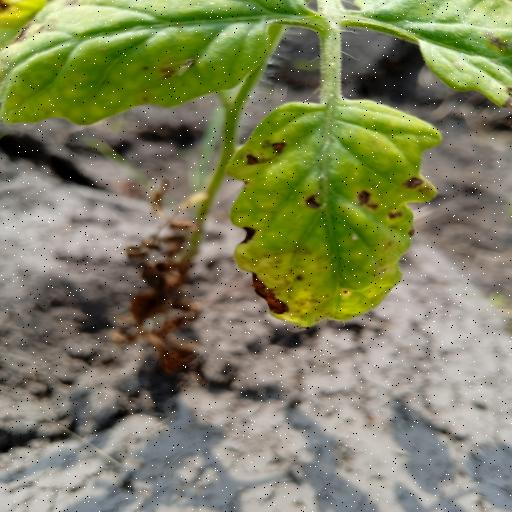Tomato_Brown_Spots: (234, 93, 447, 340)
